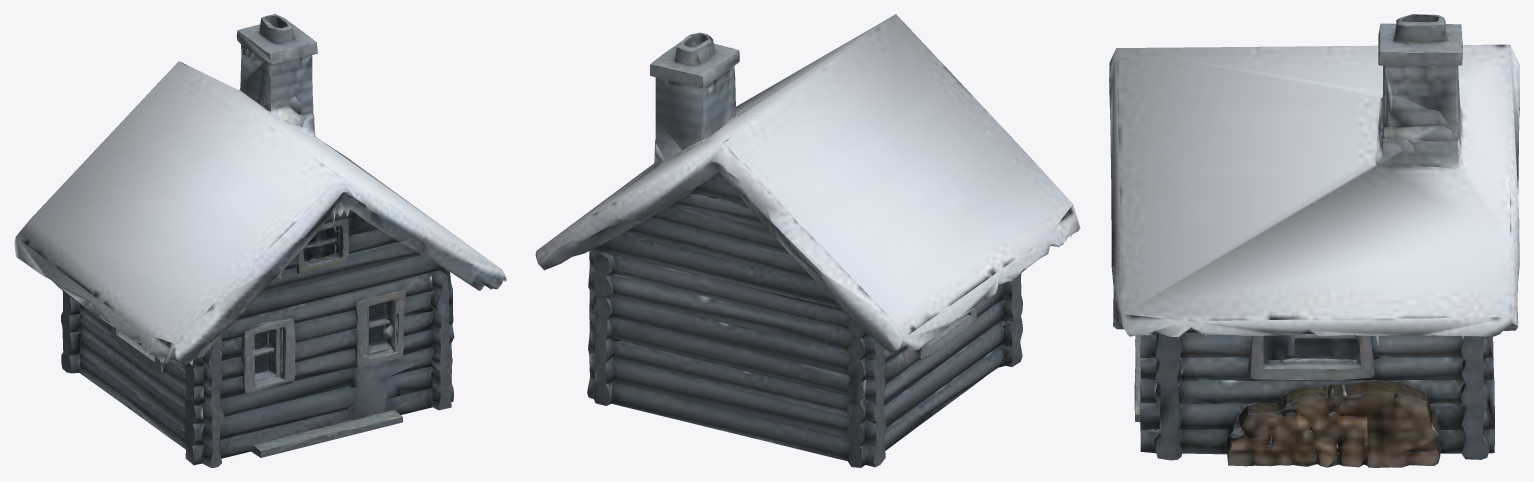
File: house2.glb
3 renders of one model, left to right at view 1: azimuth 30°, elevation 25°; view 2: azimuth 150°, elevation 25°; view 3: azimuth 270°, elevation 25°, orthographic. The views are drawn at different scales.
Parts seen in each view (by area): view 1: Mesh; view 2: Mesh; view 3: Mesh.
Part boxes in pixels (x1=…): Mesh: x1=14, y1=14, x2=506, y2=467; Mesh: x1=535, y1=14, x2=1080, y2=467; Mesh: x1=1109, y1=14, x2=1519, y2=467.
Bounding box in the file's own units: 1.91 × 1.71 × 1.59.
1 material, 1 textured.
